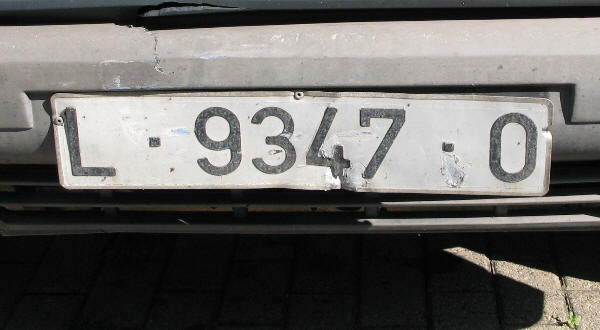license_plate: (49, 92, 554, 197)
